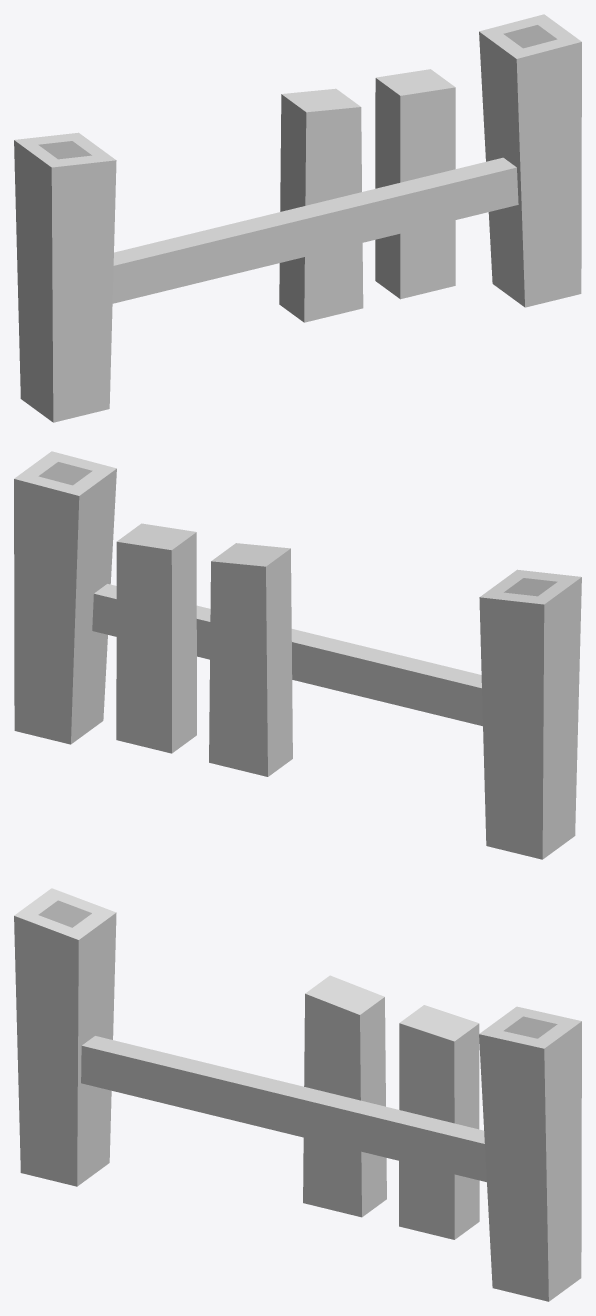
File: WhiteFence_01_alt2.fbx
3 views of the same model, one above another, from view 1: azimuth 30°, elevation 25°; view 2: azimuth 150°, elevation 25°; view 3: azimuth 330°, elevation 25° (orthographic).
Visible parts, largest first — view 1: WhiteFence_01_alt2; view 2: WhiteFence_01_alt2; view 3: WhiteFence_01_alt2.
Part boxes in pixels (x1,y1,x2,y2): WhiteFence_01_alt2: (14,14,581,422); WhiteFence_01_alt2: (14,451,581,859); WhiteFence_01_alt2: (14,888,581,1301).
Size of the model in its own units: 7.51 by 3.48 by 1.06.
